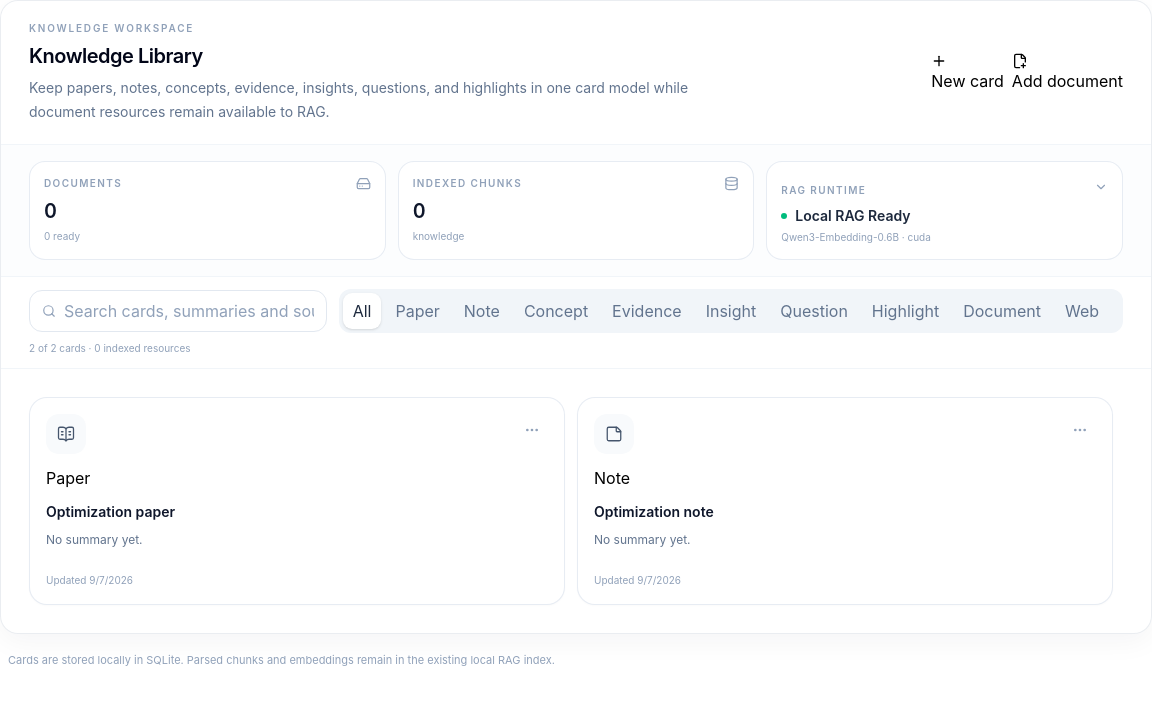
Test: Knowledge Card Library › filters the unified grid by card type
Expected: the heading "Optimization paper" is shown, [46,503,175,520]
What coordinates should you click on to do the following:
click the button "Note"
I would click on:
 (482, 311)
Its box is [454,293,510,329].
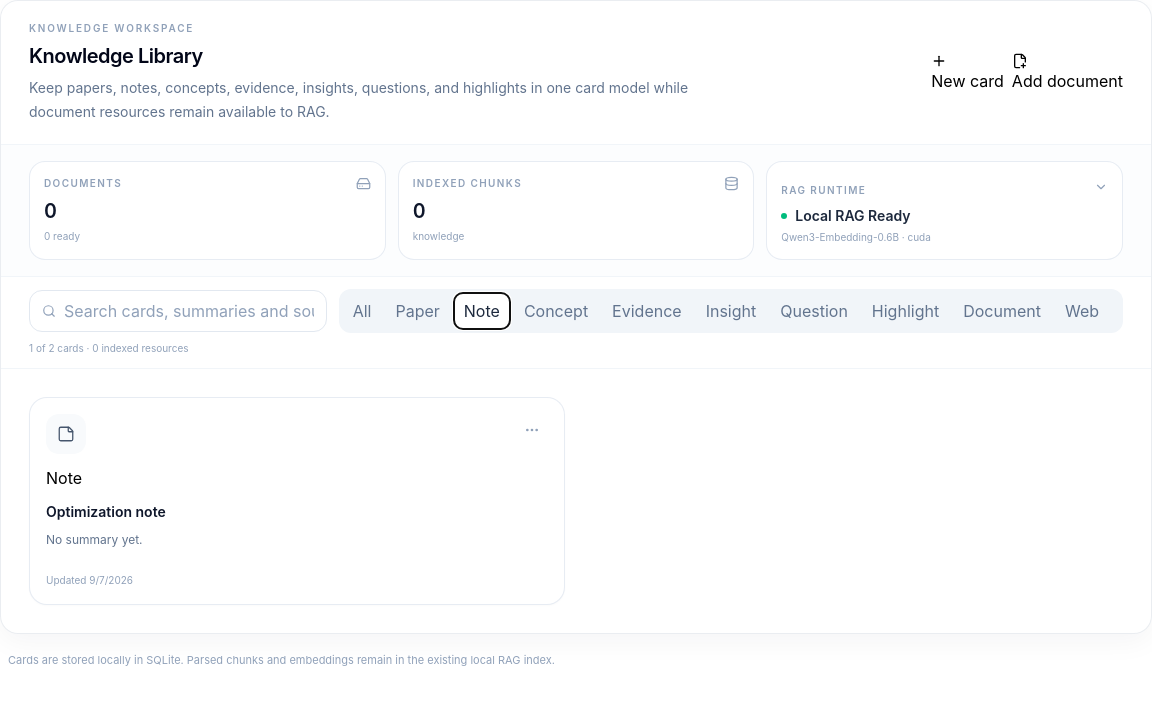
Expected: the heading "Optimization note" is shown, [46,503,166,520]
Expected: the button "Optimization paper" is gone
